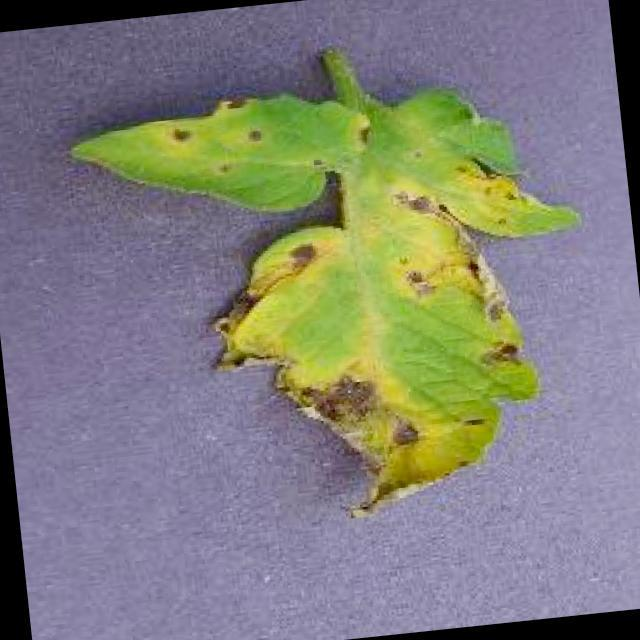Tomato Septoria spot leaf: (65, 63, 612, 543)
